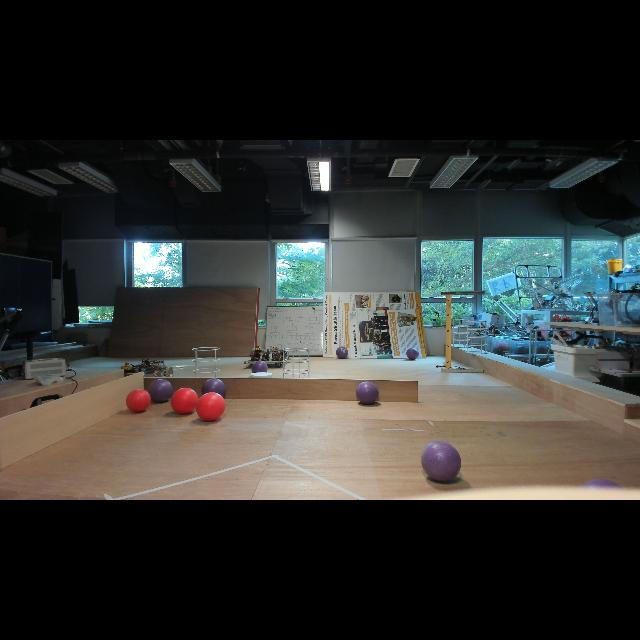P: (420, 440, 462, 482), (146, 378, 174, 404), (200, 378, 228, 398), (356, 381, 378, 405), (250, 361, 272, 375), (336, 346, 348, 360), (406, 348, 419, 360)
R: (196, 392, 227, 422), (170, 388, 198, 416), (125, 389, 151, 413)
S: (192, 347, 220, 379), (282, 347, 310, 379)
